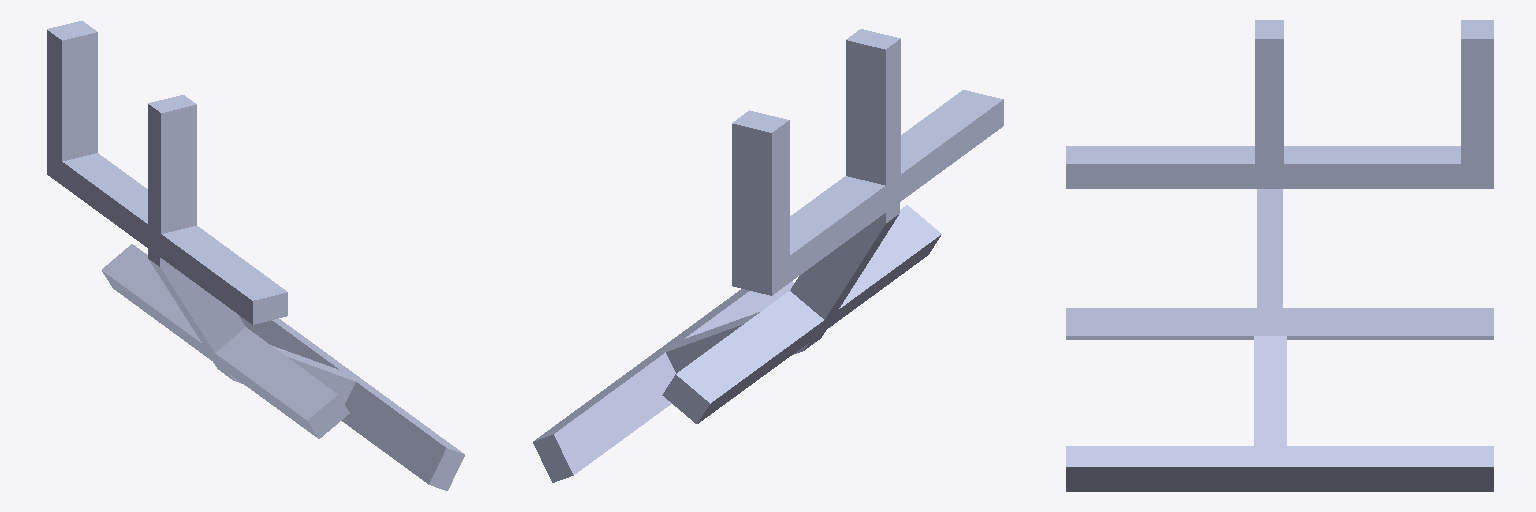
URDF robot description (obstacle0517):
<?xml version="1.0" encoding="utf-8"?>
<!-- This URDF was automatically created by SolidWorks to URDF Exporter! Originally created by [author] ([email redacted]) 
     Commit Version: 1.6.0-1-g15f4949  Build Version: 1.6.7594.29634
     For more information, please see http://wiki.ros.org/sw_urdf_exporter -->
<robot
  name="obstacle0517">
  <link
    name="obstacle">
    <inertial>
      <origin
        xyz="-0.01575 0.0031948 0.019643"
        rpy="0 0 0" />
      <mass
        value="0.0035284" />
      <inertia
        ixx="1.2928E-06"
        ixy="6.2036E-08"
        ixz="4.1233E-07"
        iyy="9.7387E-07"
        iyz="-1.4287E-07"
        izz="9.9373E-07" />
    </inertial>
    <visual>
      <origin
        xyz="0 0 0"
        rpy="0 0 0" />
      <geometry>
        <mesh
          filename="package://obstacle0517/meshes/obstacle.STL" />
      </geometry>
      <material
        name="">
        <color
          rgba="0.79216 0.81961 0.93333 1" />
      </material>
    </visual>
    <collision>
      <origin
        xyz="0 0 0"
        rpy="0 0 0" />
      <geometry>
        <mesh
          filename="package://obstacle0517/meshes/obstacle.STL" />
      </geometry>
    </collision>
  </link>
</robot>

--- What the picture shows (computed from the rendered views, not written in the file) ---
3 views of the same robot in one strip: view 1: azimuth 30°, elevation 25°; view 2: azimuth 150°, elevation 25°; view 3: azimuth 270°, elevation 25° (orthographic).
Model obstacle0517 with 1 links and 0 joints (none), rooted at obstacle, posed every joint at zero.
Links seen in each view (by area): view 1: obstacle; view 2: obstacle; view 3: obstacle.
Boxes of the visible links, <box> form: obstacle: <box>47,21,464,490</box>; obstacle: <box>533,29,1003,482</box>; obstacle: <box>1066,20,1493,491</box>.
Bounding box of the posed robot: 0.0298 × 0.05 × 0.0481 m (x, y, z).
Meshes: 1 distinct files referenced, 1 mesh visuals loaded (1 binary STL).